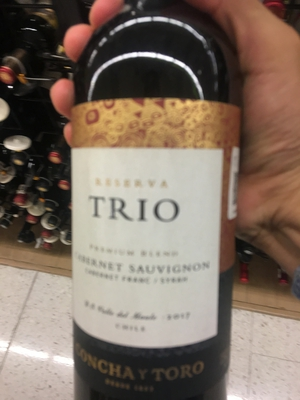trio cabernet sauvignon: (59, 15, 257, 400)
